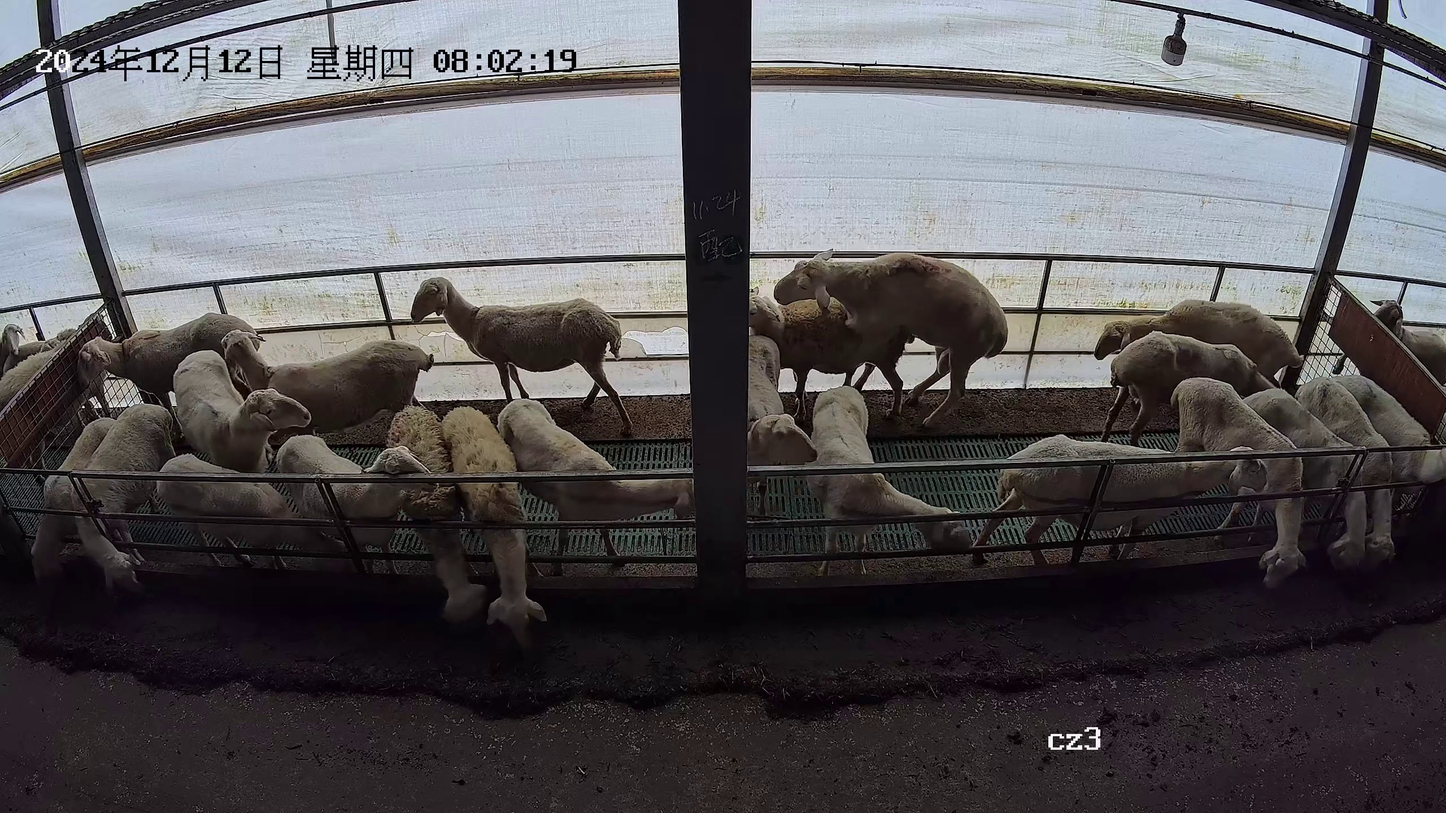Smounting: (745, 248, 1008, 429)
mounted: (750, 283, 905, 425)
